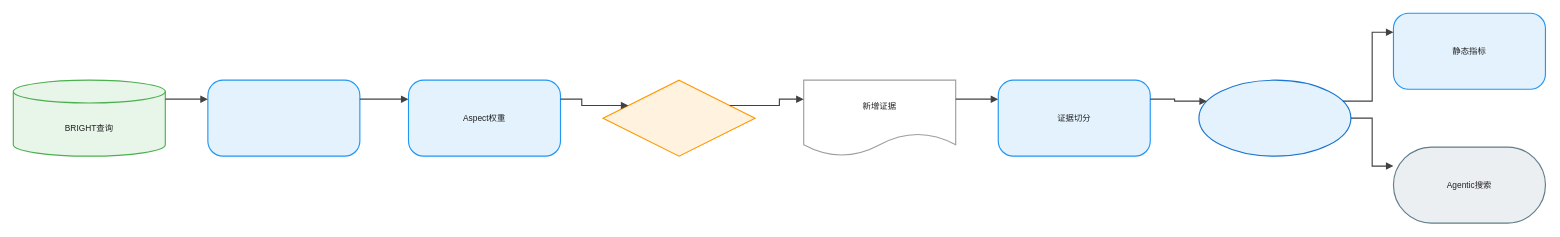
The diagram is 1560 pixels wide and 237 high, and some of its shapes have lost their labels. Here are the shapes that lost their labels. From the top down, the box of each, then its label:
(207, 79, 360, 156): 推理Aspect
(602, 79, 755, 156): 重审Gold
(1198, 79, 1351, 156): 二次审核
